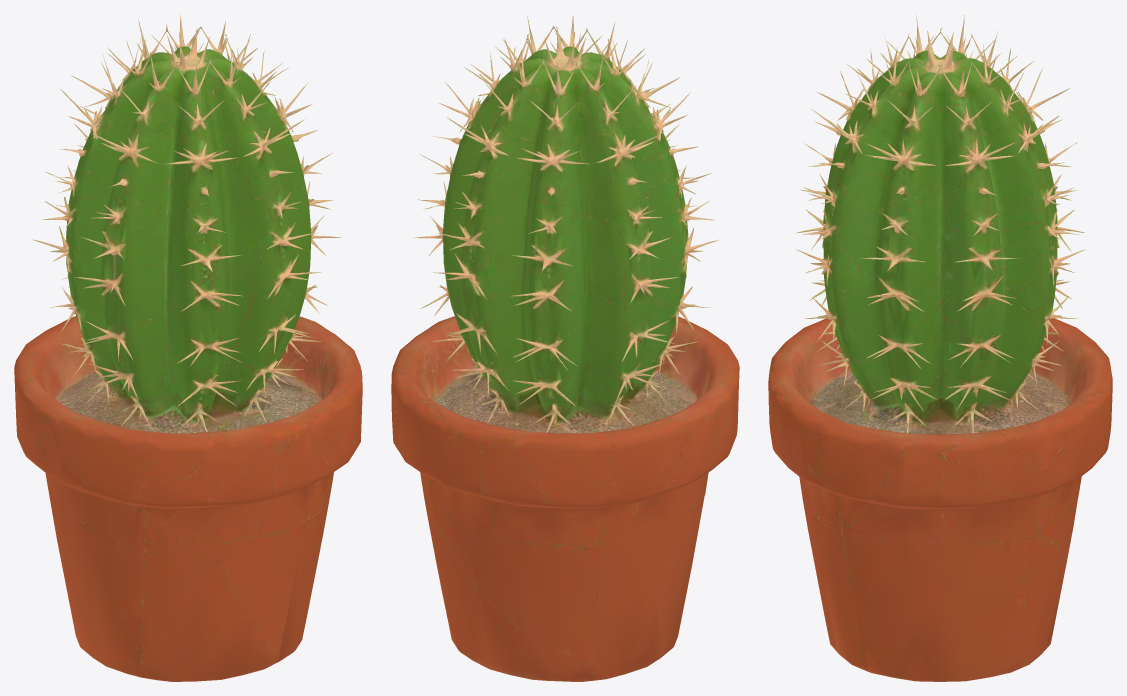
File: plant.glb
The picture shows the model from 3 angles, left to right: view 1: azimuth 30°, elevation 25°; view 2: azimuth 150°, elevation 25°; view 3: azimuth 270°, elevation 25°; orthographic projection.
Size of the model in its own units: 0.9885 by 1.9 by 0.9883.
Materials: 1 (1 with a texture image).
